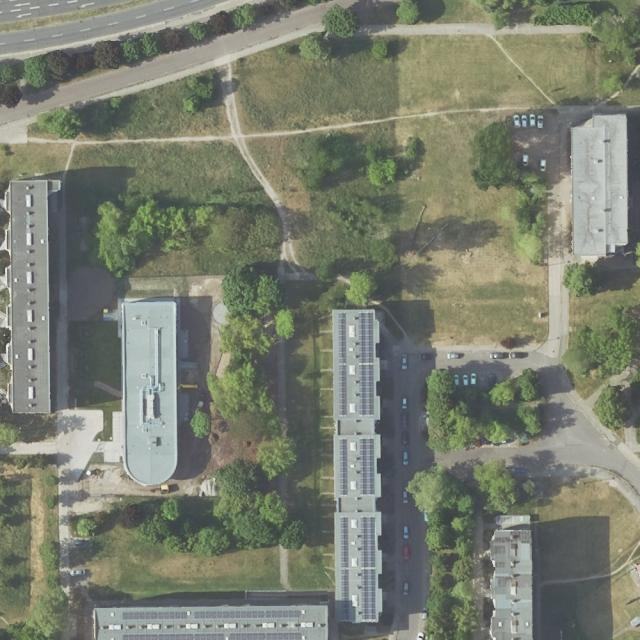PV: (121, 609, 306, 621), (356, 311, 375, 416), (359, 516, 375, 619), (122, 632, 304, 640), (337, 313, 348, 417), (339, 516, 350, 620), (360, 438, 376, 496), (337, 437, 348, 498)
